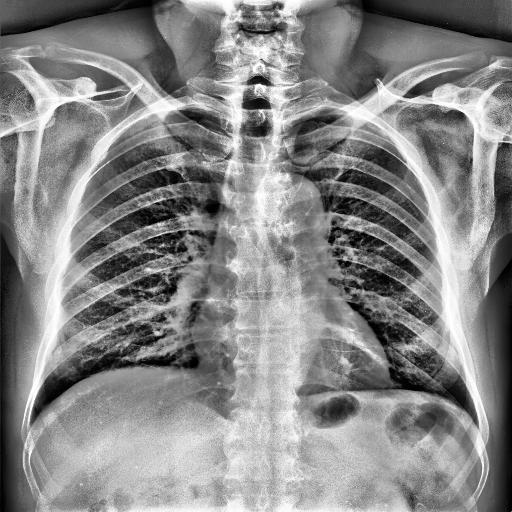0- Aortic enlargement: (254, 169, 326, 235), (261, 170, 324, 230), (272, 173, 325, 220)
